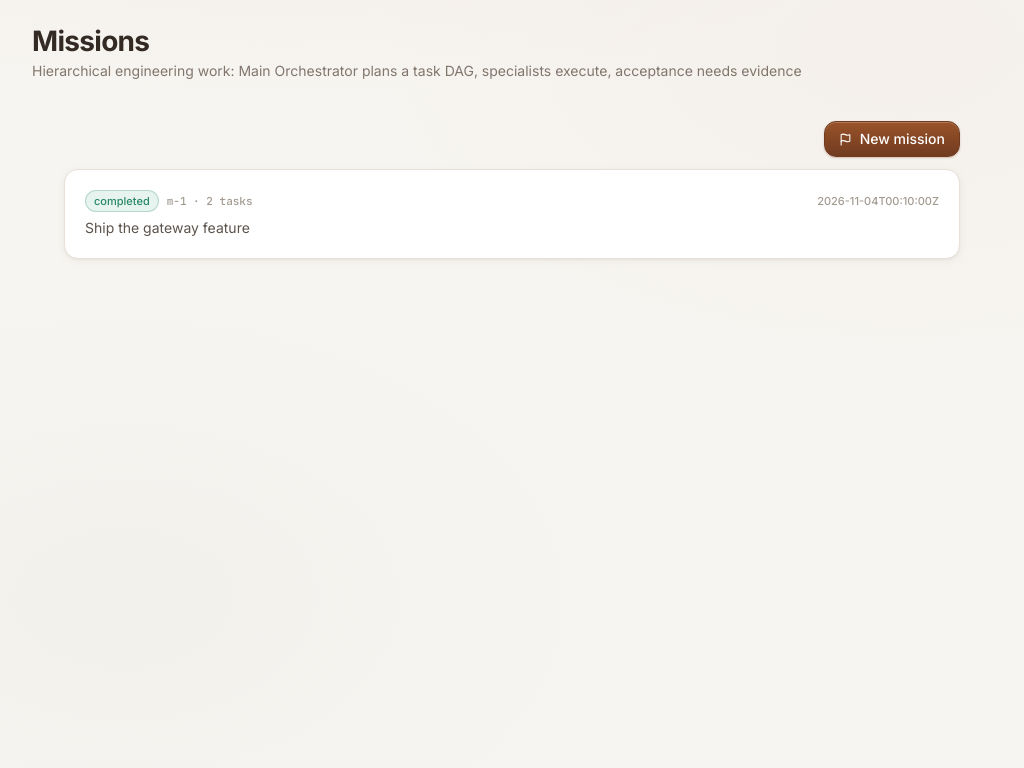
Test case: Missions learning post-mortem › shows the post-mortem with evaluation chips and accepted lessons
Click the text "Ship the gateway feature".
click(167, 228)  # box [85,219,250,236]
(page scrolled)
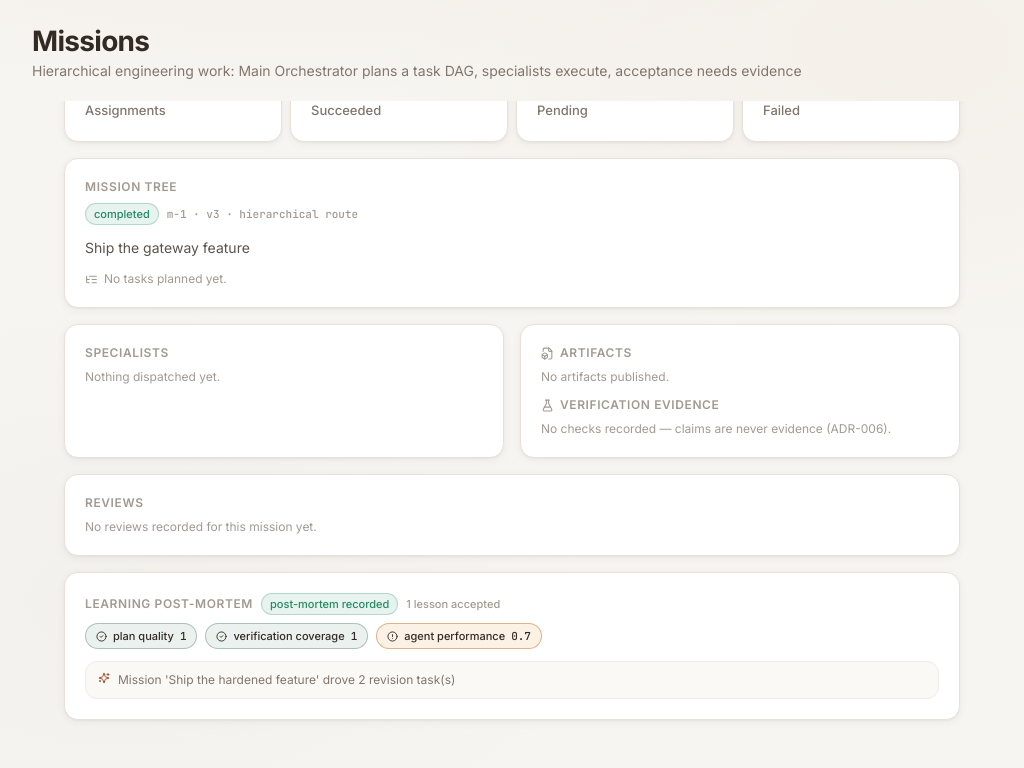
Expected: the text "post-mortem recorded" is shown, [261,593,398,615]
Expected: the text "plan quality" is shown, [113,628,174,644]
Expected: the text "verification coverage" is shown, [234,628,345,644]
